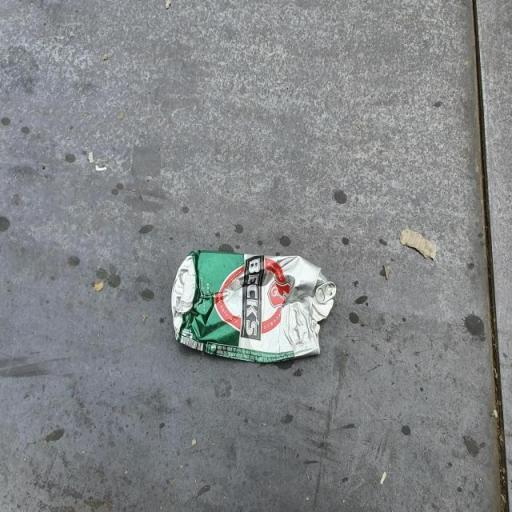metal: (158, 230, 352, 391)
